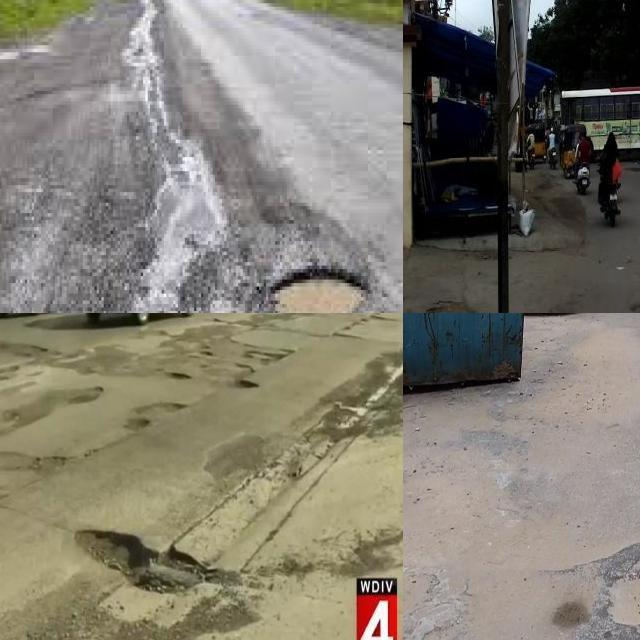Pothole: (79, 531, 217, 596), (275, 280, 366, 313), (0, 453, 81, 475), (124, 402, 186, 430), (242, 347, 287, 360), (69, 388, 103, 404), (426, 302, 471, 313), (238, 380, 259, 388), (169, 373, 192, 379), (202, 351, 213, 355)
